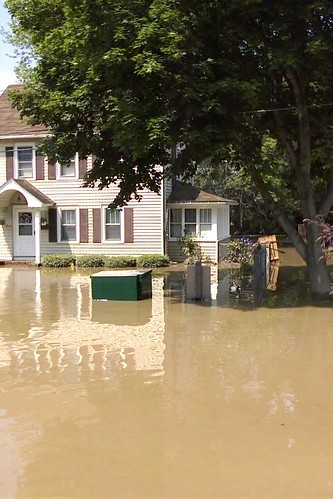building: (1, 92, 225, 264)
dumpster: (82, 263, 160, 306)
tree: (11, 3, 333, 293)
